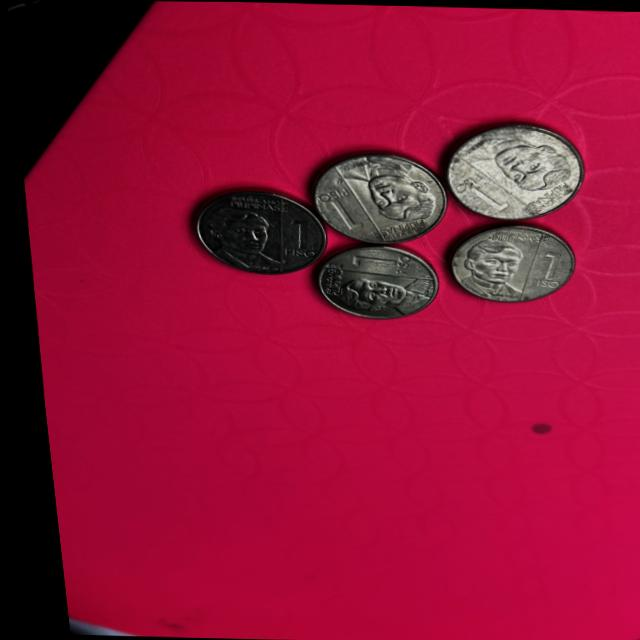1_New_Front: (441, 167, 516, 211), (304, 181, 366, 234), (272, 210, 314, 260), (341, 247, 406, 276), (522, 245, 560, 290)
